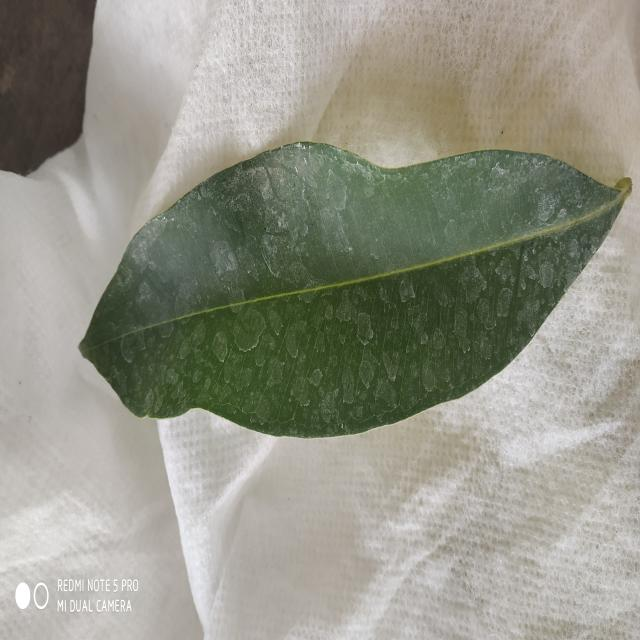nerale: (80, 142, 631, 438)
